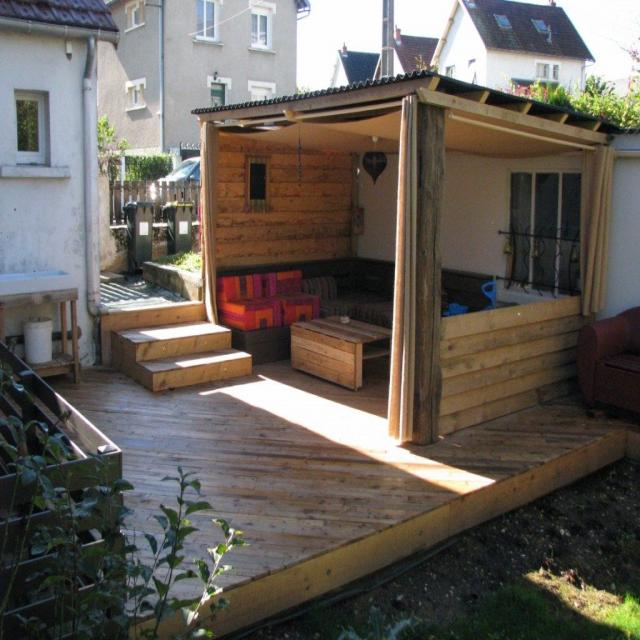palette: (354, 335, 394, 363)
